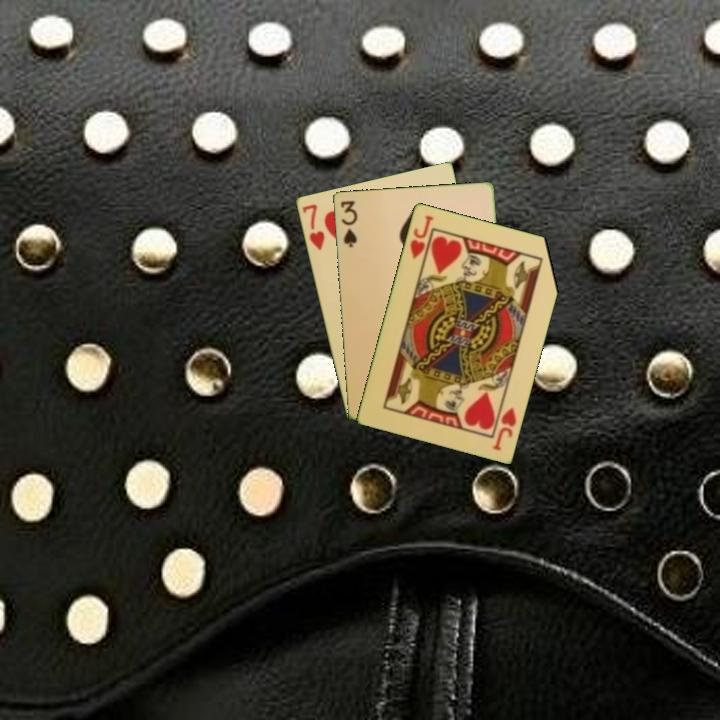3s: (337, 197, 360, 250)
7h: (298, 200, 327, 253)
Jh: (406, 211, 436, 268), (488, 403, 519, 453)
